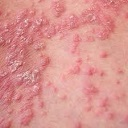Psoriasis: (1, 8, 39, 112), (55, 1, 109, 36)
